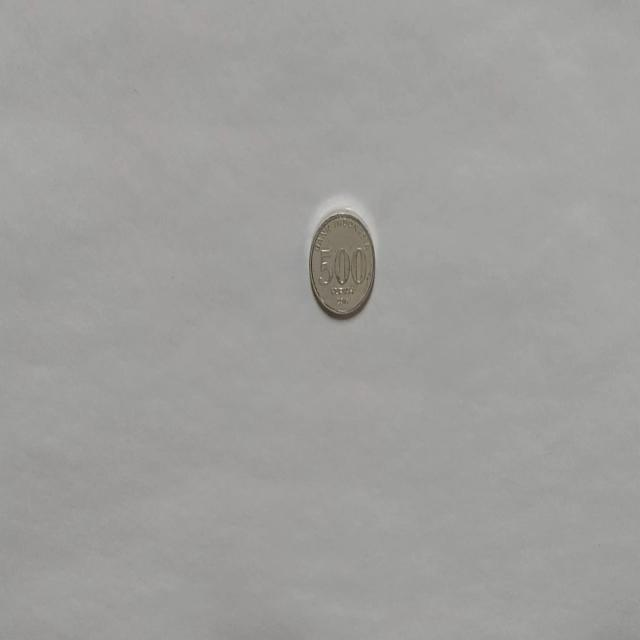lima ratus rupiah: (308, 208, 376, 319)
